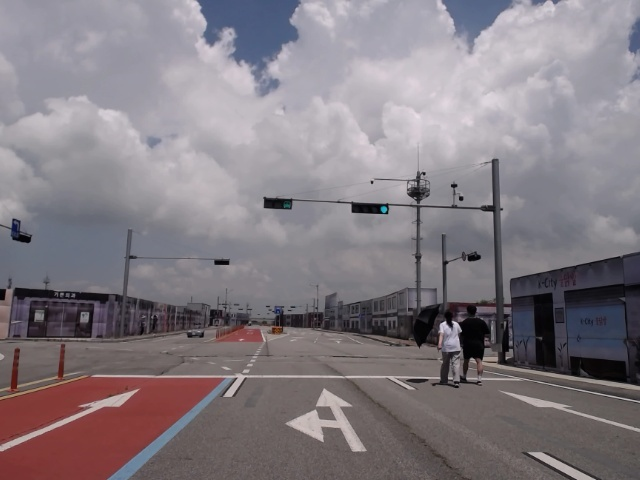straight_green_4: (353, 202, 391, 214)
